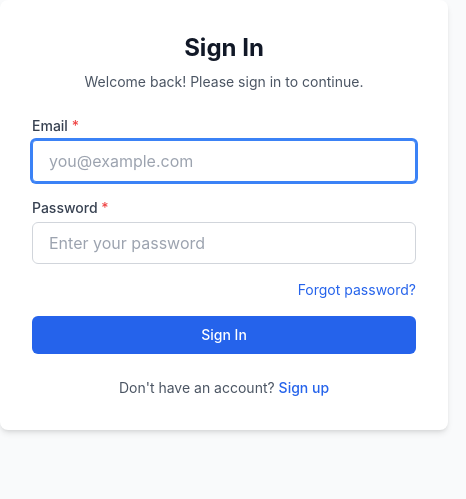
Test case: SignInForm Component › Form Validation › should clear validation errors when user types
The image size is (466, 499).
// Trigger validation error
Click the button "Sign In" at point(224, 335), box [32,316,416,354]
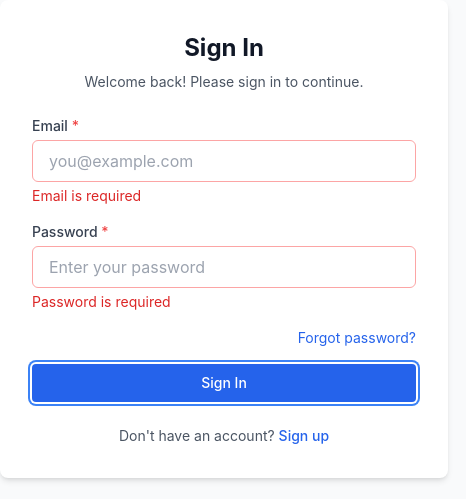
Expected: the text "Email is required" is shown, [32,187,141,204]
// Type in email field
Type "test@example.com" into the field labelled "Email *" at point(224, 161), box [32,140,416,182]
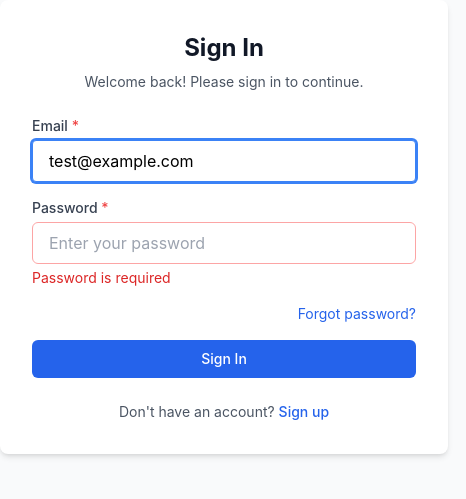
Expected: the text "Email is required" is gone
